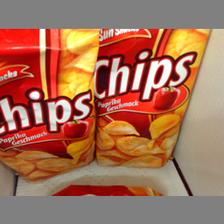Chips: (97, 28, 205, 168), (0, 29, 96, 182)
